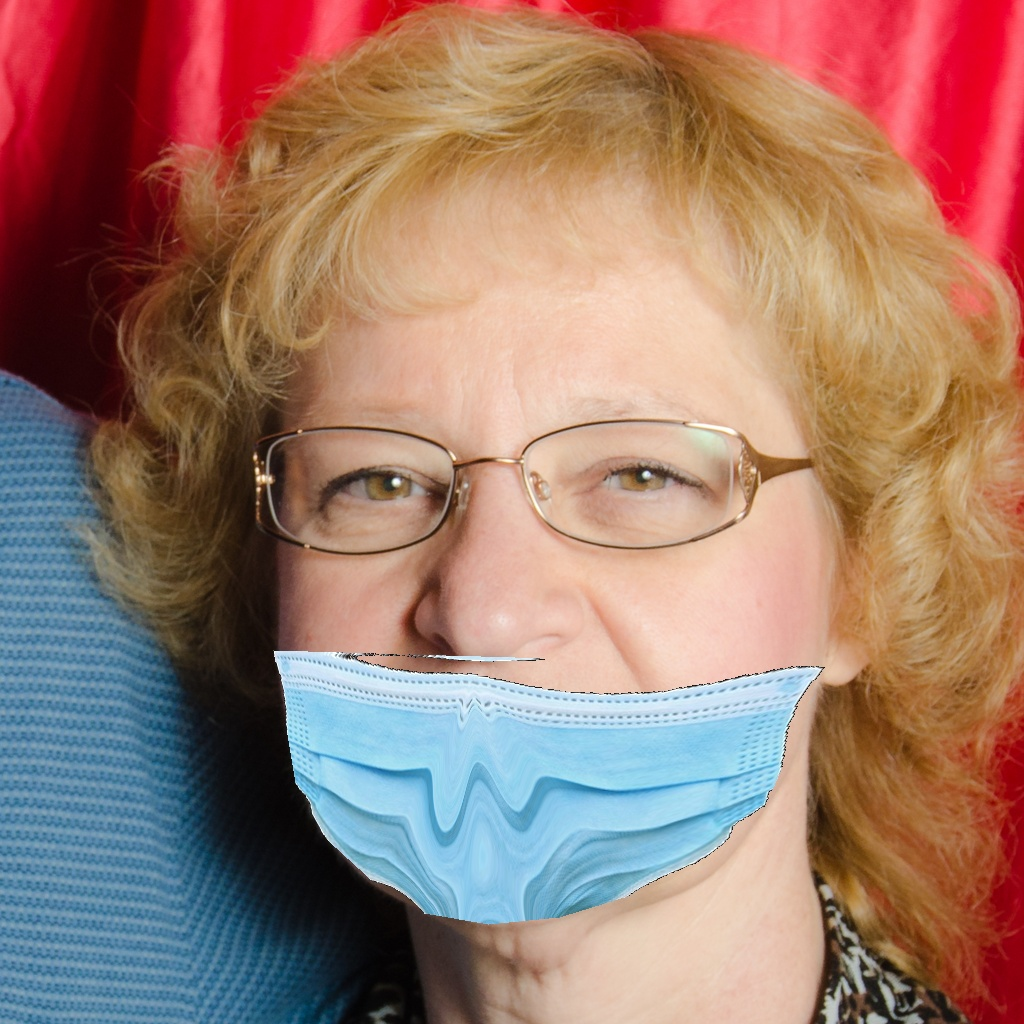mascarilla_mal_puesta: (207, 388, 862, 945)
